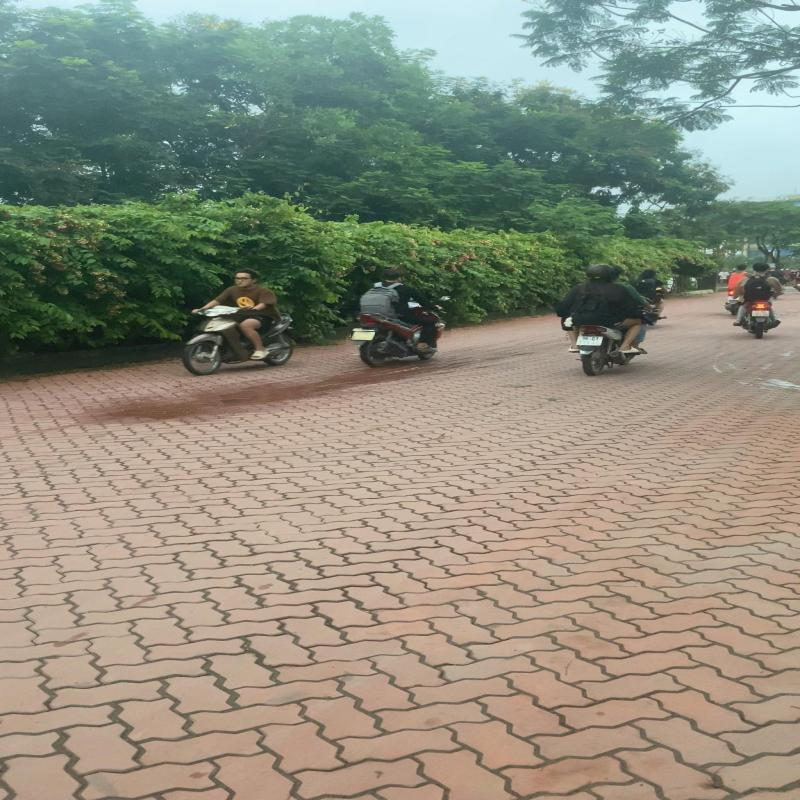licenseplate: (351, 331, 375, 341)
motorcyclist: (346, 266, 454, 369)
nohelmet: (382, 270, 404, 282)
